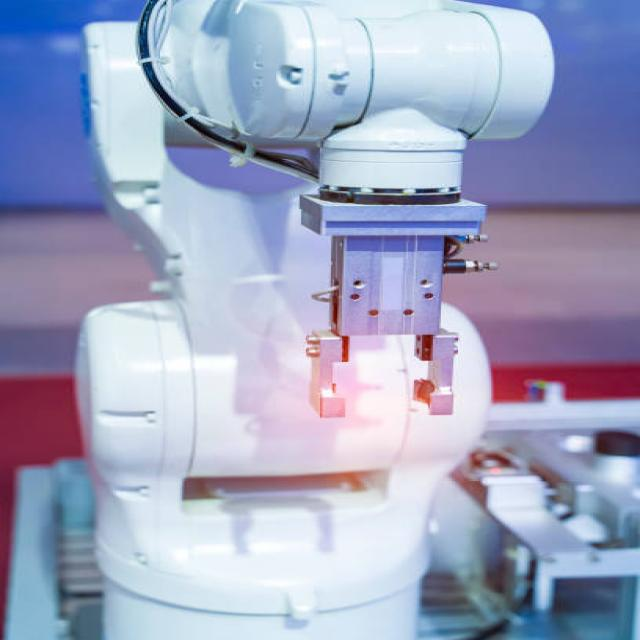Robotic-arm: (68, 0, 562, 640)
